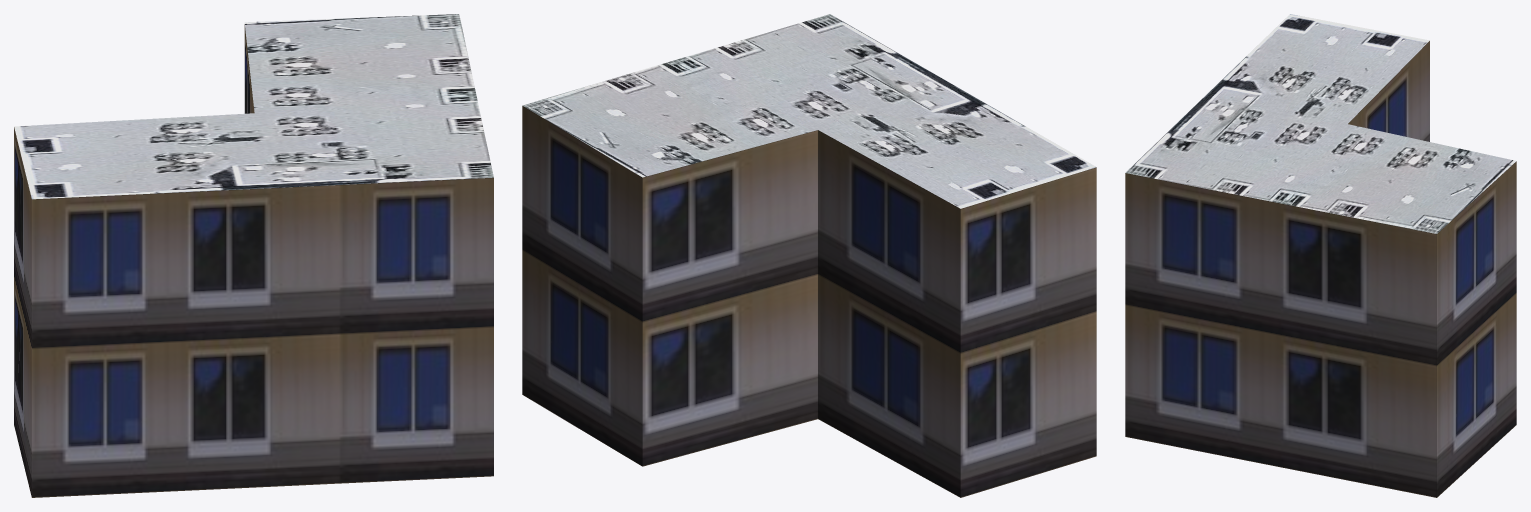
The model's file is ResTex__2074.fbx.
3 renders of one model, left to right at view 1: azimuth 30°, elevation 25°; view 2: azimuth 150°, elevation 25°; view 3: azimuth 270°, elevation 25°, orthographic. The views are drawn at different scales.
Visible parts, largest first — view 1: CityEngineMaterial_5_m, CityEngineMaterial_m; view 2: CityEngineMaterial_5_m, CityEngineMaterial_m; view 3: CityEngineMaterial_5_m, CityEngineMaterial_m.
Part boxes in pixels (box(x1,y1,x2,y2)): CityEngineMaterial_5_m: box(14, 25, 493, 497); CityEngineMaterial_m: box(14, 14, 493, 199); CityEngineMaterial_5_m: box(522, 106, 1096, 497); CityEngineMaterial_m: box(522, 14, 1096, 208); CityEngineMaterial_5_m: box(1125, 41, 1516, 497); CityEngineMaterial_m: box(1125, 14, 1516, 233).
Size of the model in its own units: 10.73 by 6 by 8.07.
2 materials, 2 textured.
